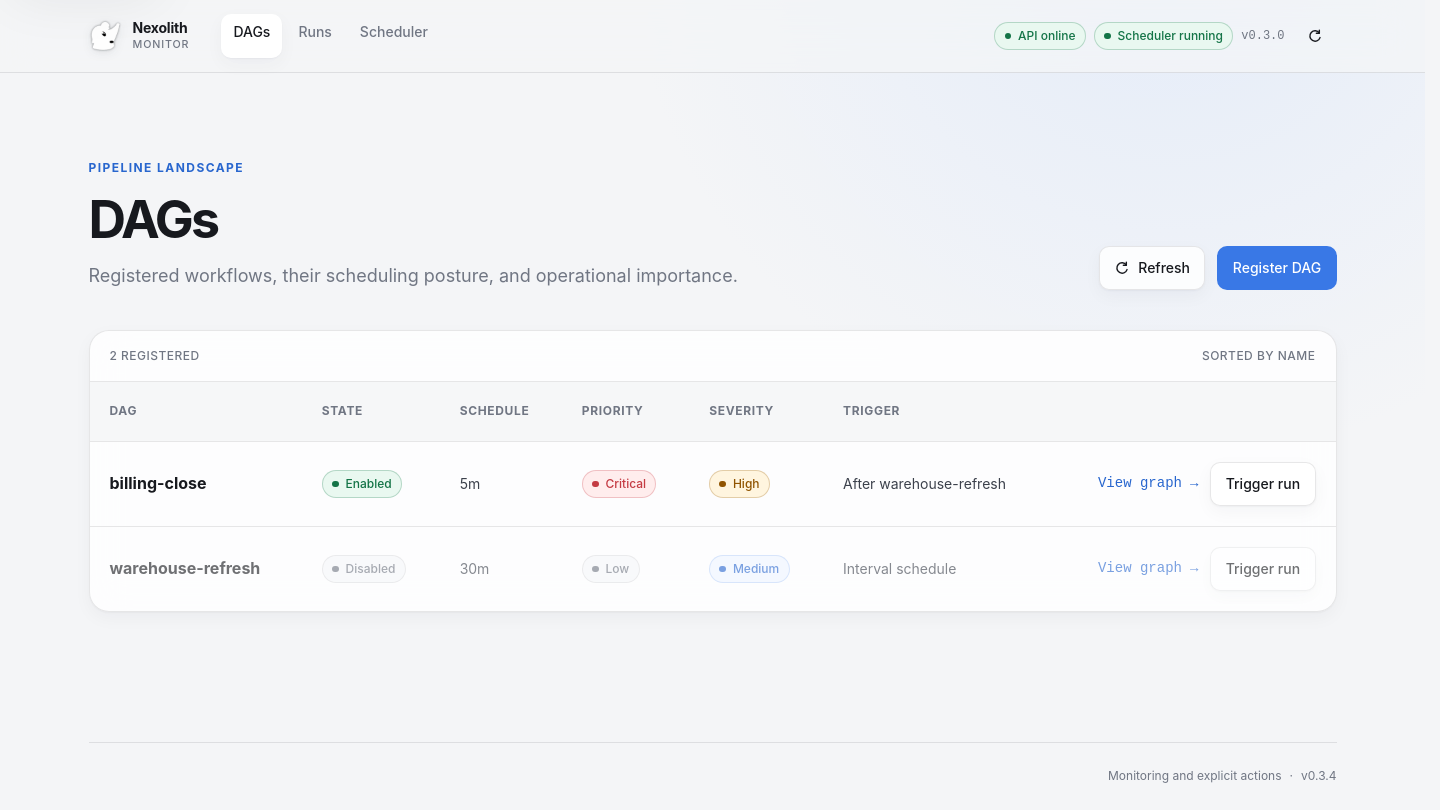
registers a DAG only after confirmation and refreshes the registry
This screenshot has width=1440, height=810.
expect the heading "DAGs" is shown: met, box [88,188,217,251]
Click the button "Register DAG" at (1277, 268), box [1217,246,1336,290]
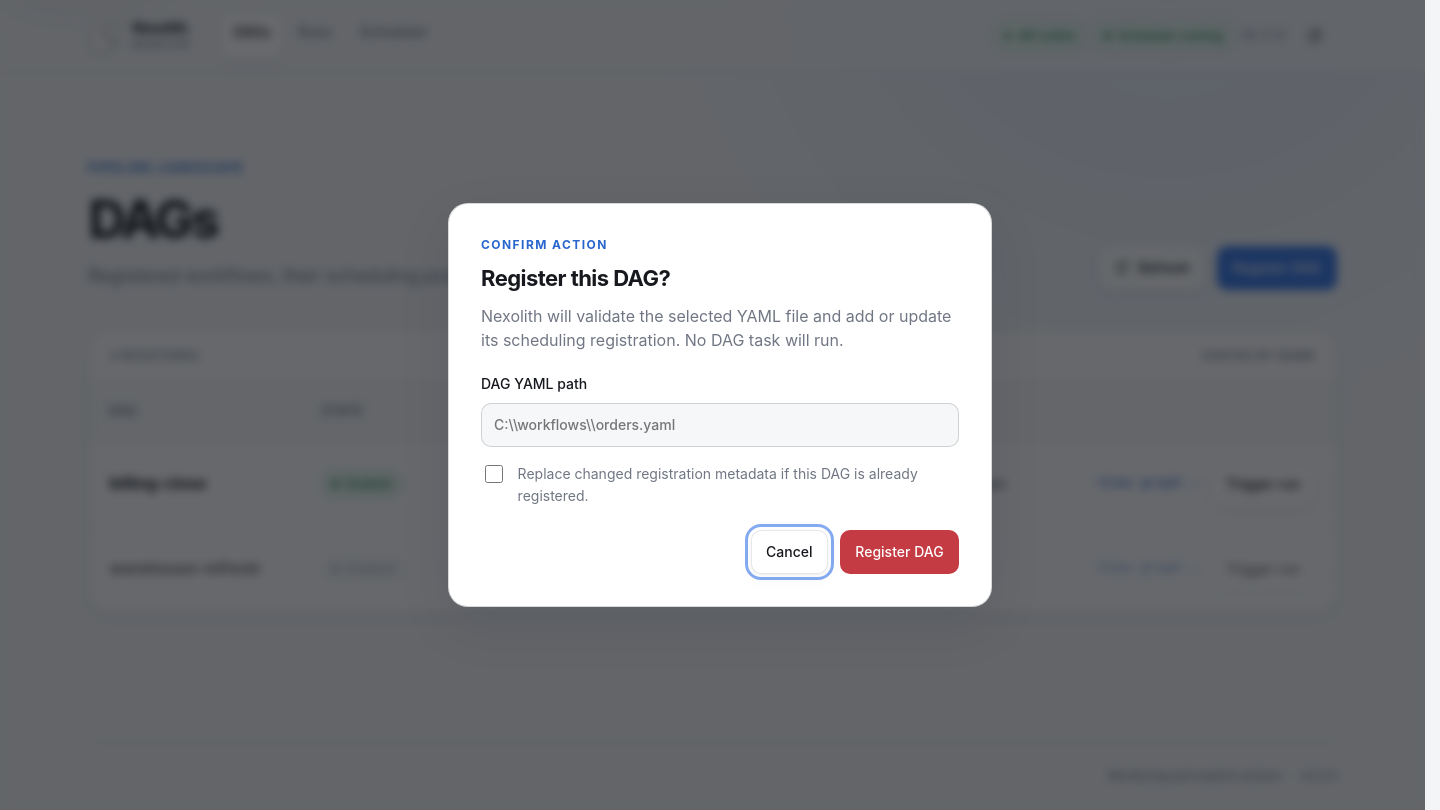
Press Escape
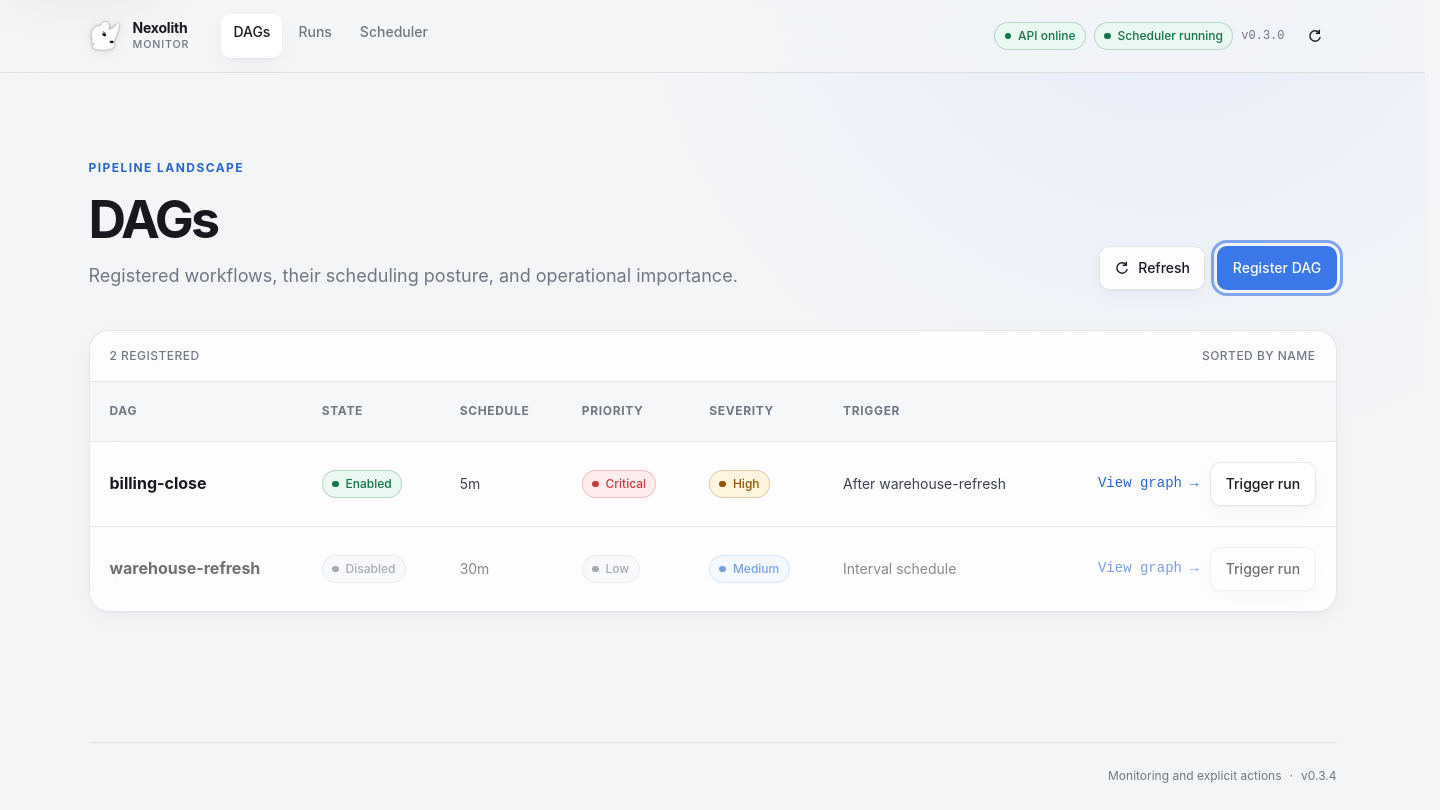
expect the dialog is gone: met
Click the button "Register DAG" at (1277, 268), box [1217,246,1336,290]
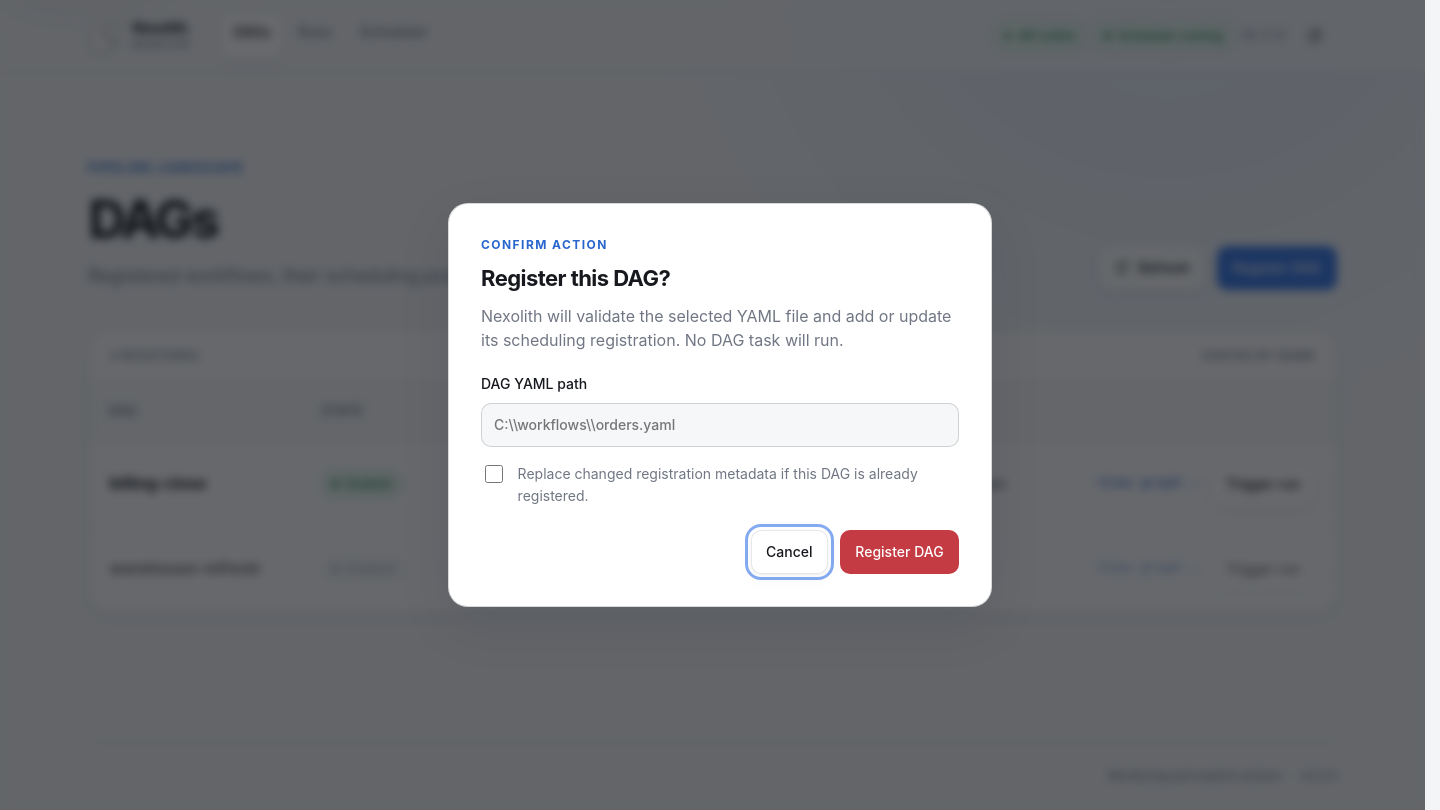
Type "workflows/new-orders.yaml" into the field labelled "DAG YAML path" at (720, 425), box [481,403,959,447]
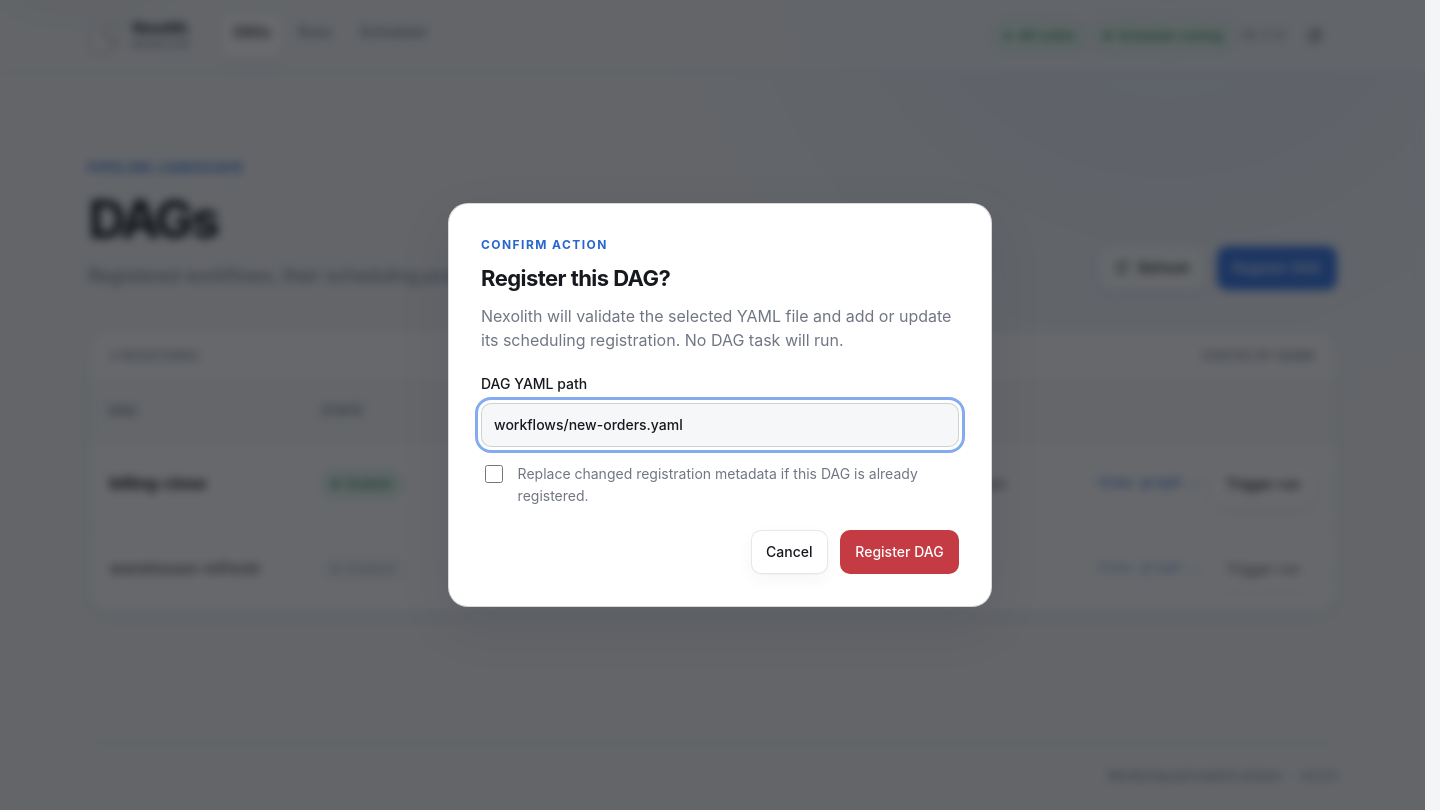
Click the checkbox at (494, 474), box [485,465,503,483]
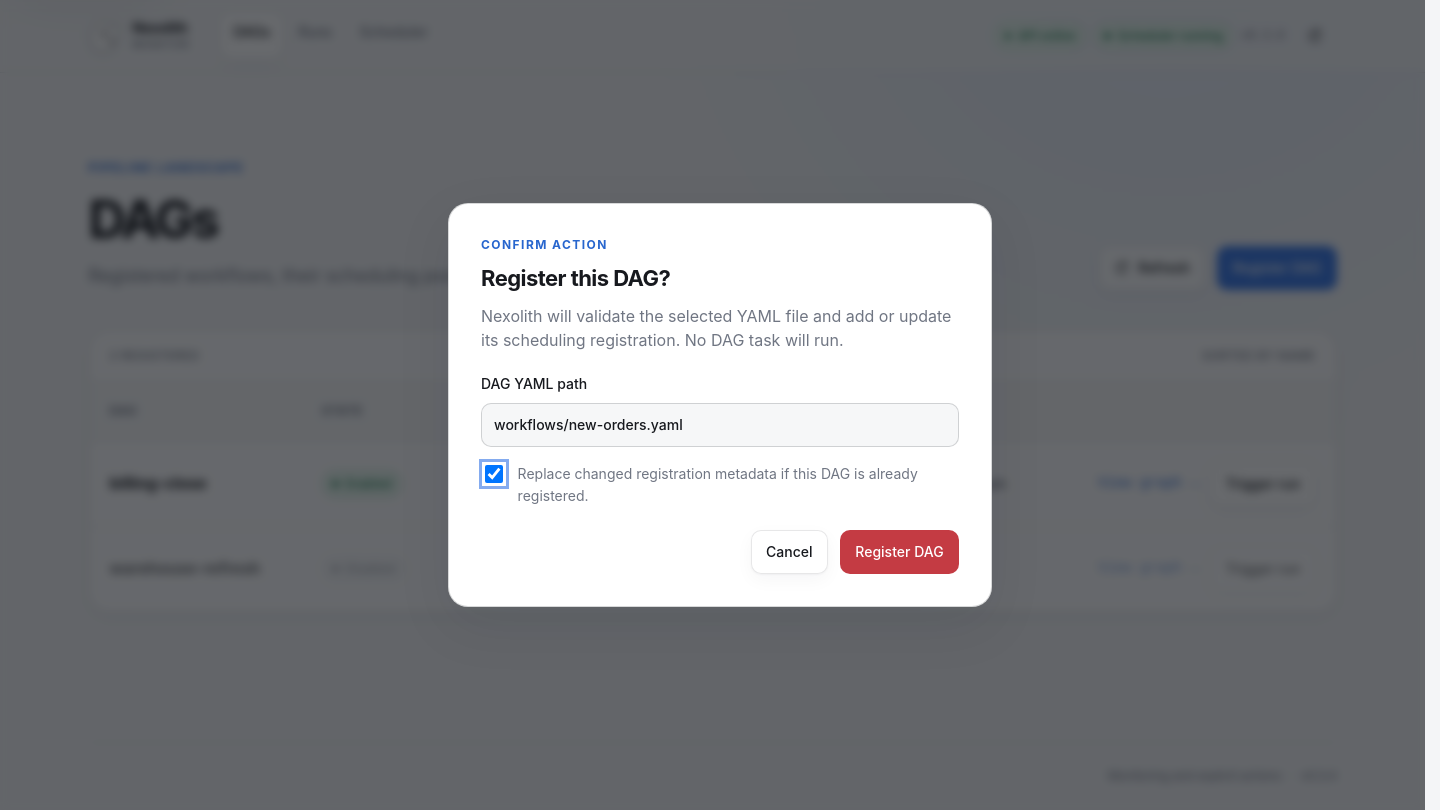
Click the button "Register DAG" at (899, 552), box [840,530,959,574]
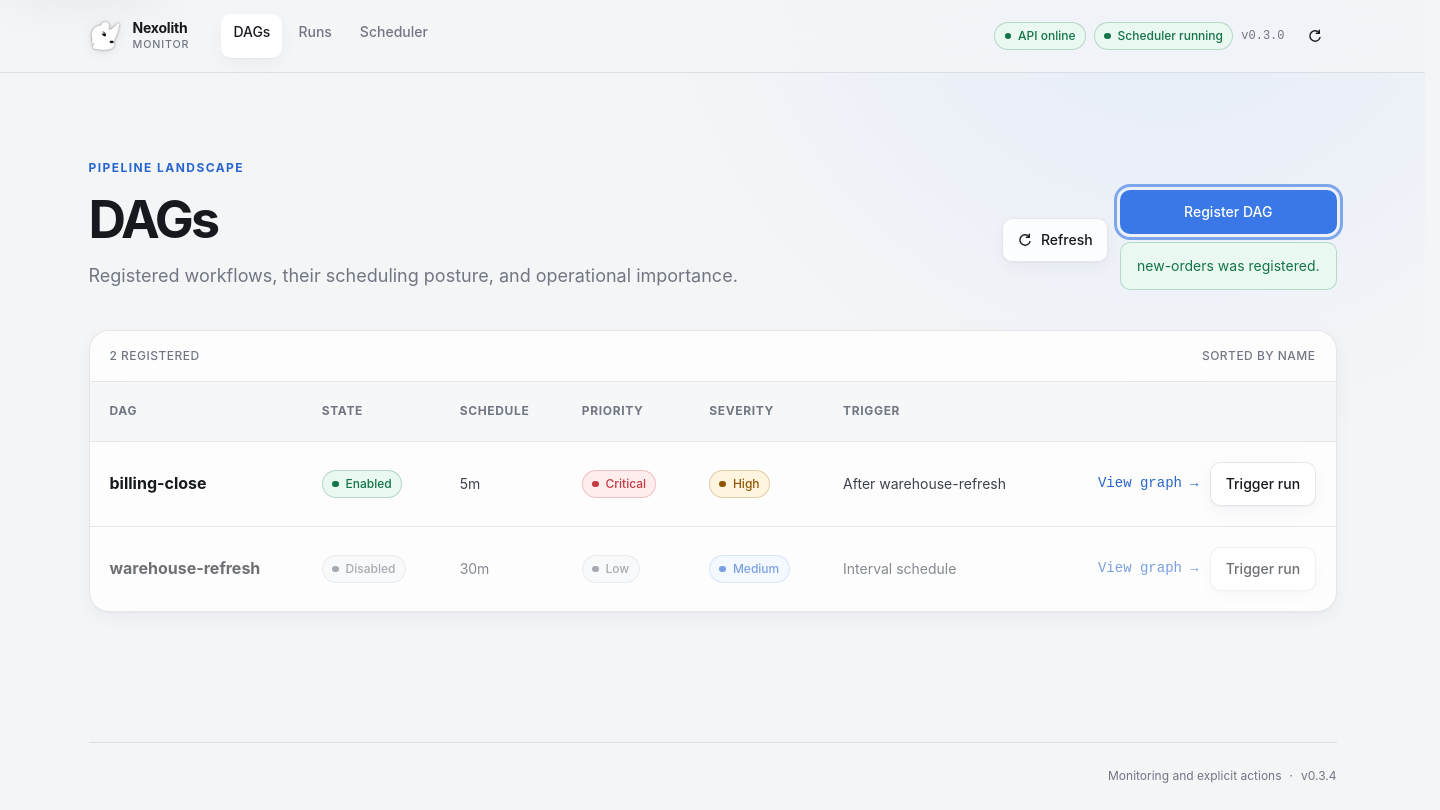
expect the text "new-orders was registered." is shown: met, box [1120,242,1336,290]
